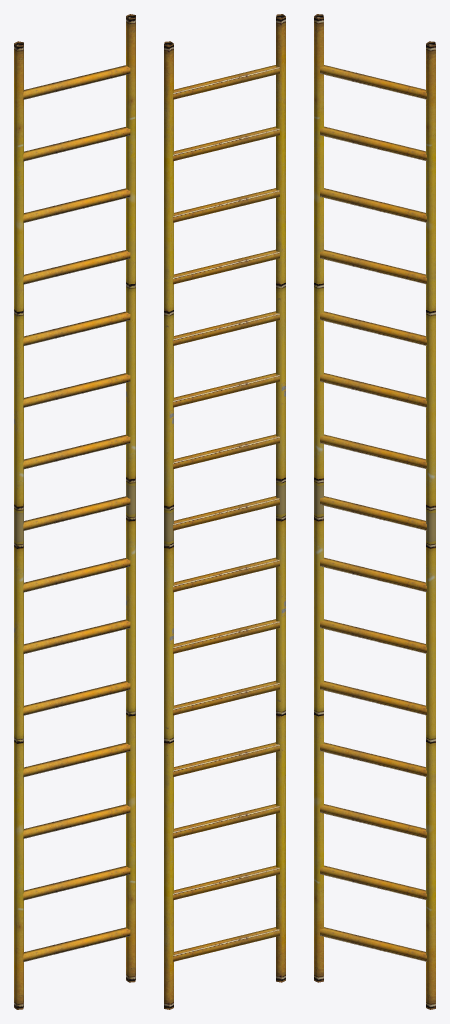
The model's file is Leader.fbx.
The picture shows the model from 3 angles, left to right: view 1: azimuth 30°, elevation 25°; view 2: azimuth 210°, elevation 25°; view 3: azimuth 330°, elevation 25°; orthographic projection.
Parts seen in each view (by area): view 1: Leader; view 2: Leader; view 3: Leader.
Boxes of the visible parts, x1,y1,x2,y2 form: Leader: (14,14,135,1009); Leader: (164,14,285,1009); Leader: (314,14,435,1009).
Bounding box in the file's own units: 71.66 × 549 × 5.22.
